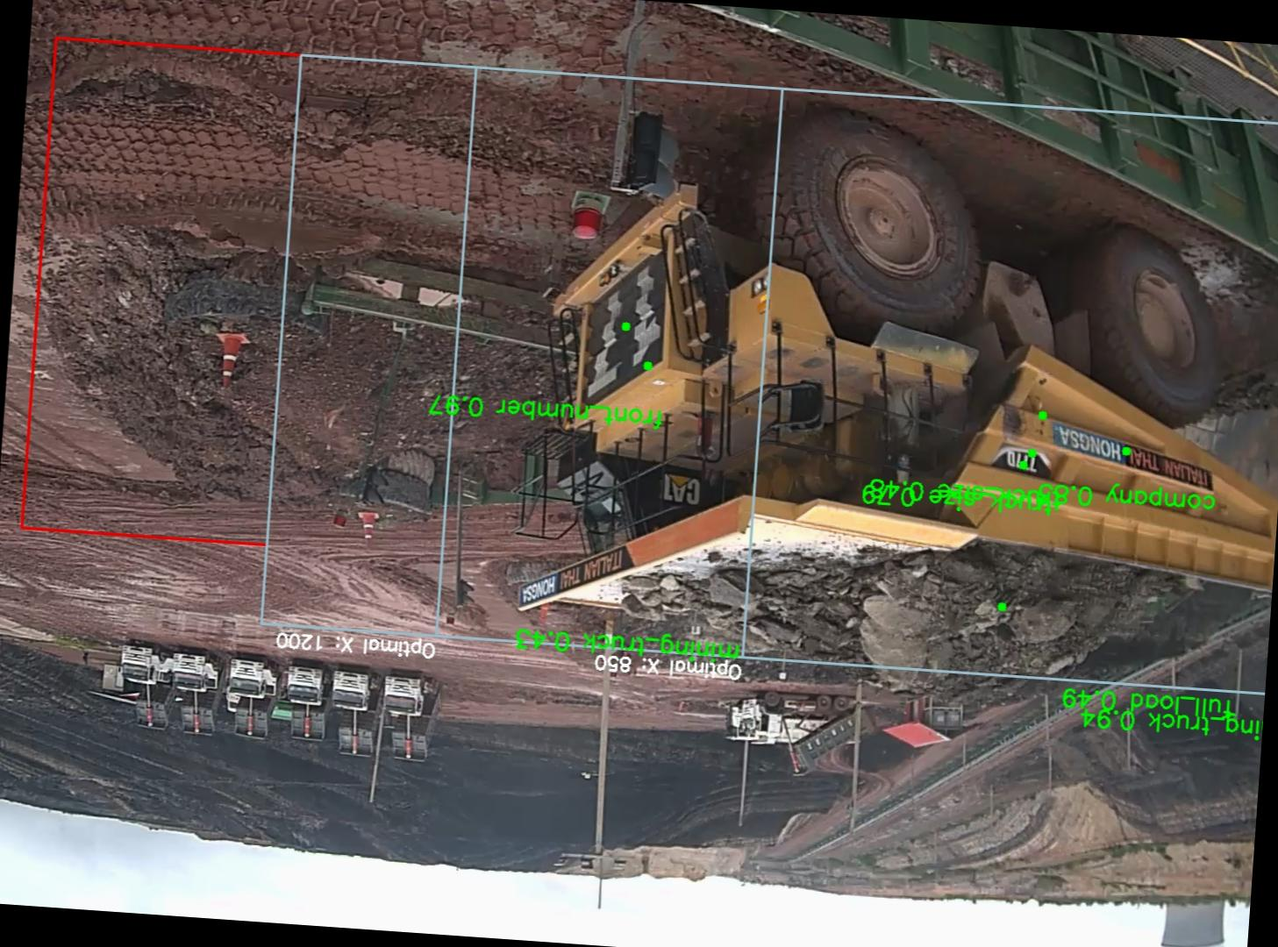company: (1048, 413, 1225, 493)
full_load: (754, 504, 1086, 705)
mining_truck: (480, 96, 1278, 753)
truck_size: (980, 443, 1057, 484)
